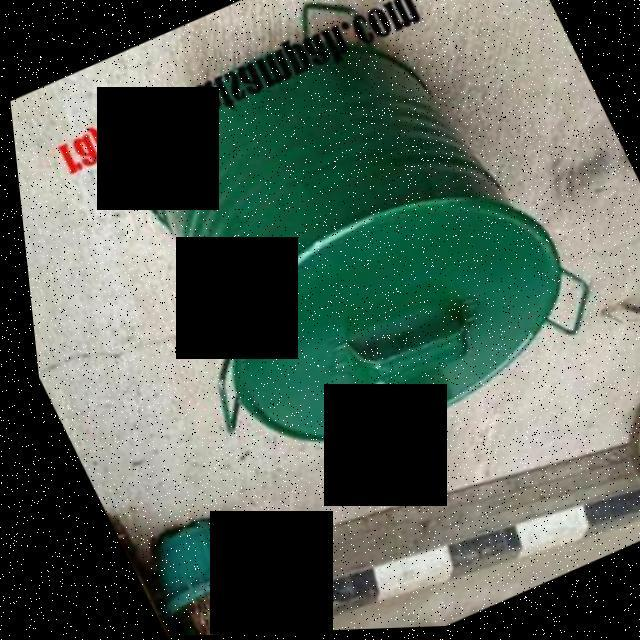bin: (75, 0, 640, 522)
